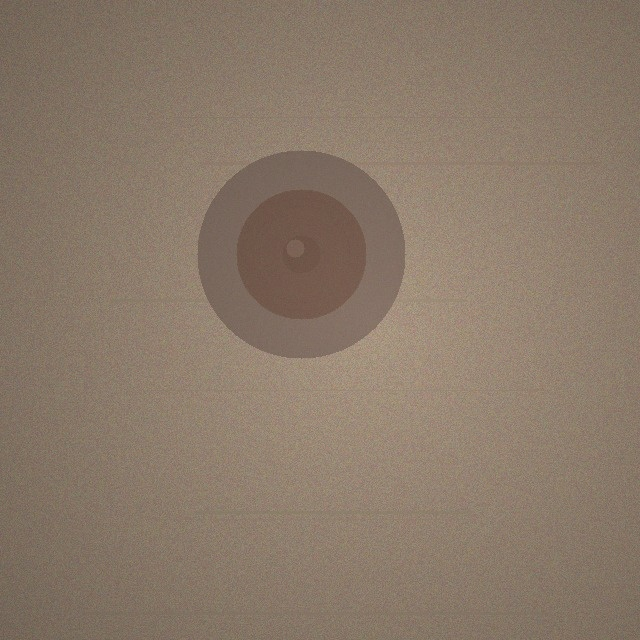good: (197, 150, 405, 358)
